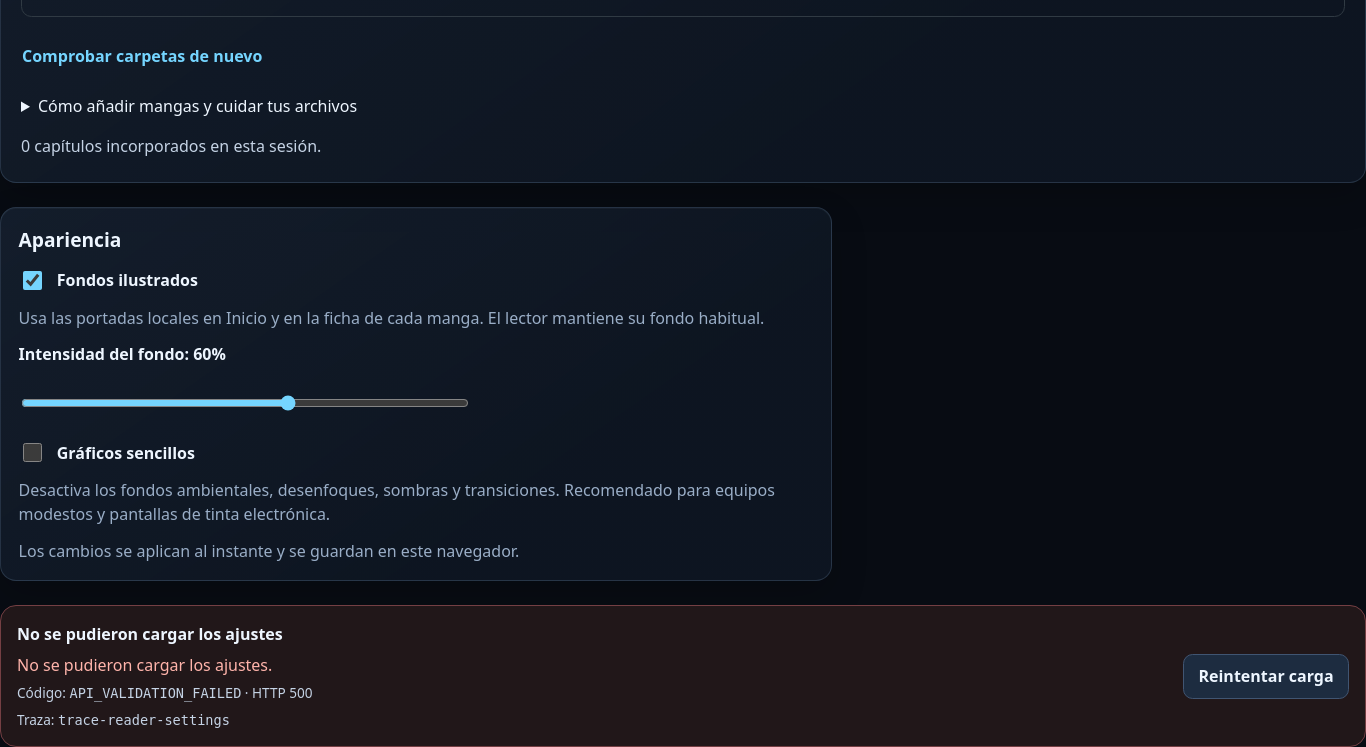
Test: SettingsPage › shows traced load failures and retries only when requested
(page scrolled)
Check: the message that starts with "No se pudieron cargar los ajustes" shows "API_VALIDATION_FAILED", box 70,685 -> 241,701
Check: the message that starts with "No se pudieron cargar los ajustes" shows "trace-reader-settings", box 58,712 -> 230,728
Click the button "Reintentar carga".
click(1266, 676)  # box 1183,654 -> 1349,699
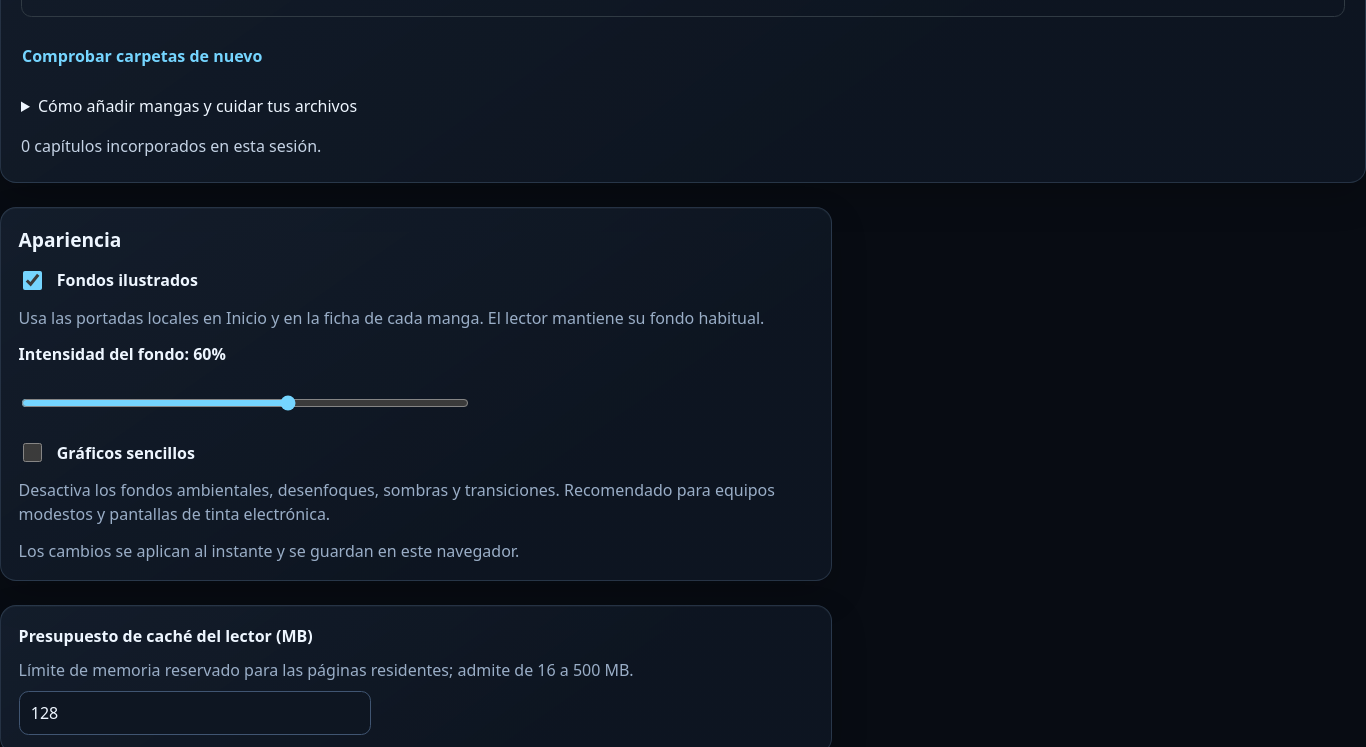
Check: the number field labelled "Presupuesto de caché del lector (MB)" holds "128", box 19,691 -> 371,735
